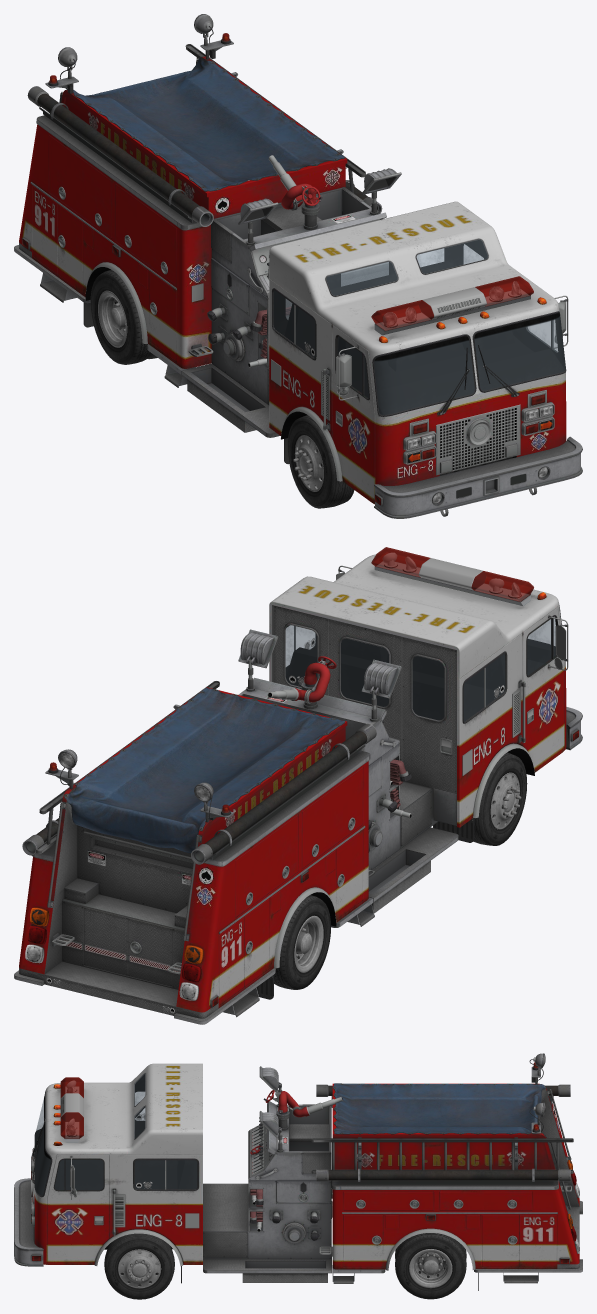
The model's file is fire-engine.glb.
3 views of the same model, one above another, from view 1: azimuth 30°, elevation 25°; view 2: azimuth 150°, elevation 25°; view 3: azimuth 270°, elevation 25° (orthographic). The views are drawn at different scales.
Visible parts, largest first — view 1: Fire Truck, Fire_Truck_parts, Fire_Truck_fabric, Fire_Truck_glass, Fire_Truck_interior, wheel_RR, wheel_RF, Fire_Truck_underbody, Fire_Truck_siren_glass, Fire_Truck_lights_glass, Fire_Truck_lights_chrome, Fire_Truck_lights; view 2: Fire_Truck_parts, Fire Truck, Fire_Truck_fabric, Fire_Truck_glass, Fire_Truck_interior, wheel_RR, wheel_RF, Fire_Truck_siren_glass, Fire_Truck_lights, Fire_Truck_lights_chrome, Fire_Truck_underbody; view 3: Fire Truck, Fire_Truck_parts, Fire_Truck_fabric, Fire_Truck_glass, Fire_Truck_interior, wheel_LR, wheel_LF, Fire_Truck_siren_glass, Fire_Truck_lights.
Part boxes in pixels (x1=…): Fire Truck: x1=19, y1=56, x2=566, y2=504; Fire_Truck_parts: x1=14, y1=14, x2=582, y2=518; Fire_Truck_fabric: x1=37, y1=56, x2=368, y2=358; Fire_Truck_glass: x1=273, y1=240, x2=565, y2=414; Fire_Truck_interior: x1=273, y1=240, x2=565, y2=414; wheel_RR: x1=90, y1=269, x2=157, y2=364; wheel_RF: x1=287, y1=415, x2=354, y2=508; Fire_Truck_underbody: x1=85, y1=267, x2=516, y2=475; Fire_Truck_siren_glass: x1=49, y1=33, x2=533, y2=330; Fire_Truck_lights_glass: x1=244, y1=176, x2=552, y2=503; Fire_Truck_lights_chrome: x1=245, y1=177, x2=551, y2=502; Fire_Truck_lights: x1=22, y1=36, x2=552, y2=505; Fire_Truck_parts: x1=14, y1=558, x2=582, y2=1024; Fire Truck: x1=19, y1=554, x2=566, y2=1012; Fire_Truck_fabric: x1=36, y1=688, x2=406, y2=854; Fire_Truck_glass: x1=285, y1=618, x2=555, y2=721; Fire_Truck_interior: x1=285, y1=621, x2=555, y2=721; wheel_RR: x1=274, y1=895, x2=330, y2=989; wheel_RF: x1=473, y1=752, x2=527, y2=845; Fire_Truck_siren_glass: x1=49, y1=547, x2=533, y2=812; Fire_Truck_lights: x1=25, y1=592, x2=578, y2=1006; Fire_Truck_lights_chrome: x1=61, y1=553, x2=528, y2=799; Fire_Truck_underbody: x1=310, y1=693, x2=534, y2=926; Fire Truck: x1=34, y1=1063, x2=579, y2=1269; Fire_Truck_parts: x1=14, y1=1053, x2=582, y2=1290; Fire_Truck_fabric: x1=250, y1=1083, x2=557, y2=1221; Fire_Truck_glass: x1=35, y1=1074, x2=197, y2=1195; Fire_Truck_interior: x1=35, y1=1074, x2=197, y2=1195; wheel_LR: x1=395, y1=1233, x2=466, y2=1299; wheel_LF: x1=104, y1=1233, x2=174, y2=1299; Fire_Truck_siren_glass: x1=60, y1=1062, x2=538, y2=1138; Fire_Truck_lights: x1=31, y1=1066, x2=579, y2=1263.
Size of the model in its own units: 3.3 by 3.46 by 9.53.
12 materials, 8 textured.
